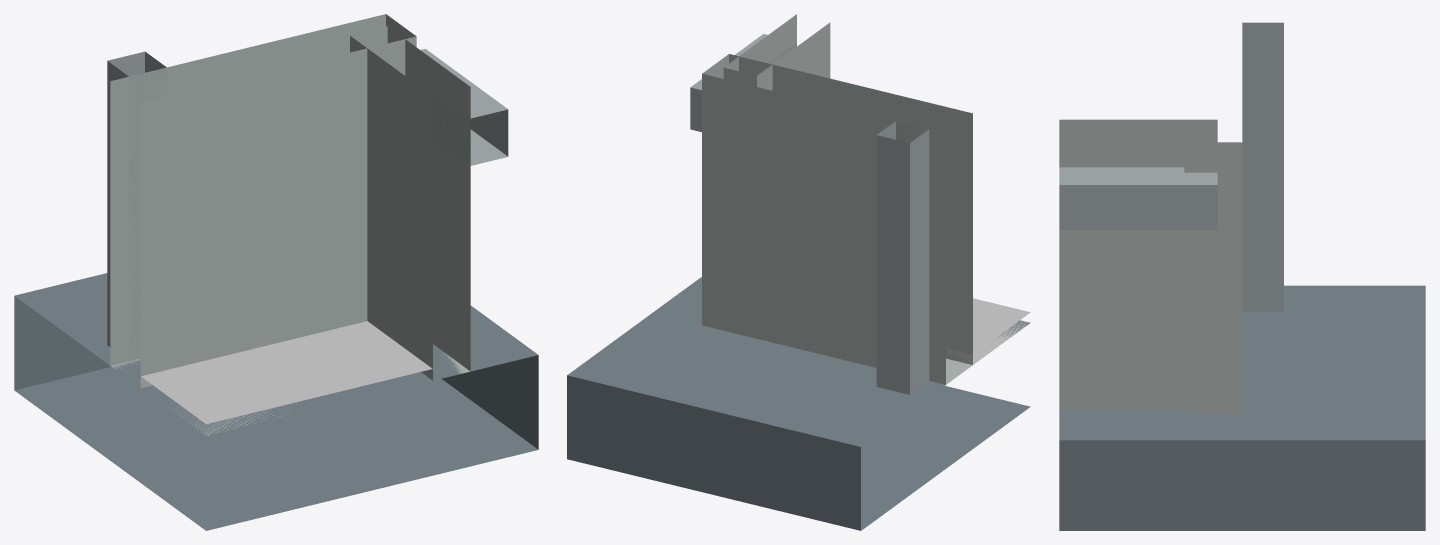
Rendered from cell_6.obj.
The picture shows the model from 3 angles, left to right: view 1: azimuth 30°, elevation 25°; view 2: azimuth 150°, elevation 25°; view 3: azimuth 270°, elevation 25°; orthographic projection. The views are drawn at different scales.
Size of the model in its own units: 0.88 by 0.96 by 0.88.
